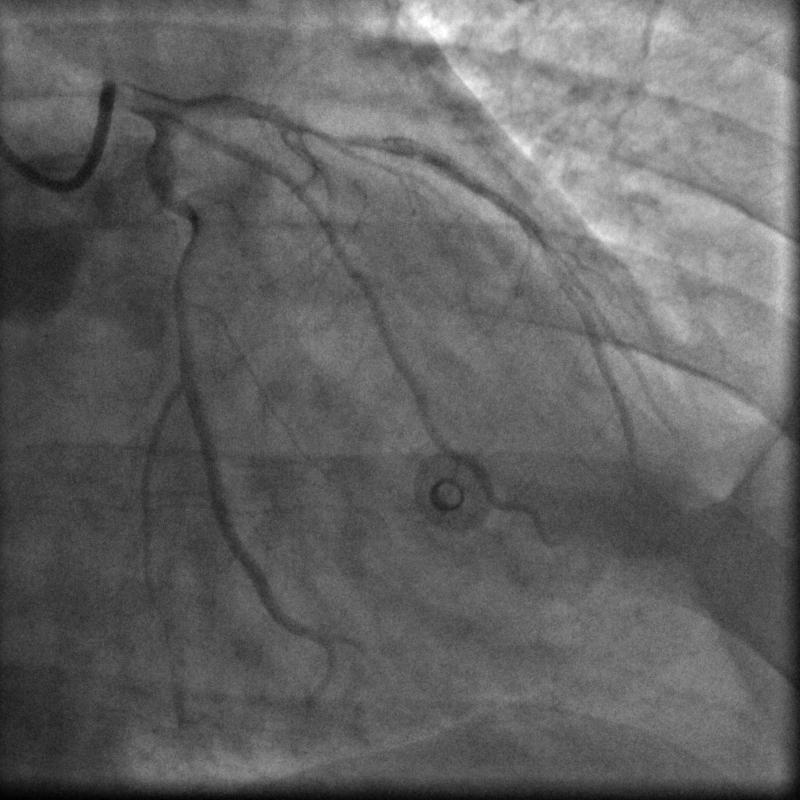Stenosis: (299, 119, 389, 161)
